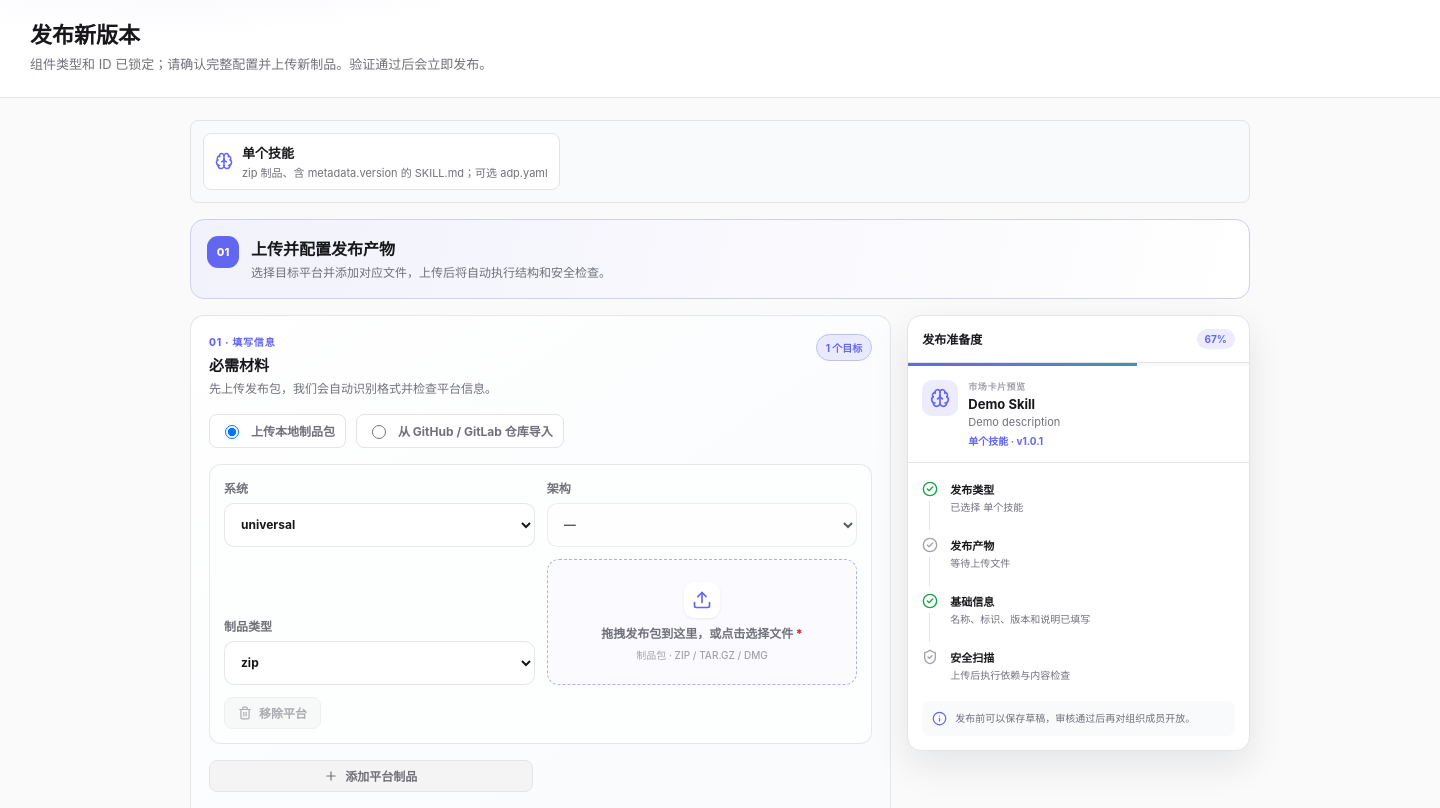
Test case: publish platform selection › derives the platform from OS and architecture without exposing a platform field
The width and height of the screenshot is (1440, 808).
Expected: the dropdown labelled "架构" is disabled, [547, 502, 857, 546]
Select "darwin" in the dropdown labelled "系统": (379, 524) [224, 502, 535, 546]
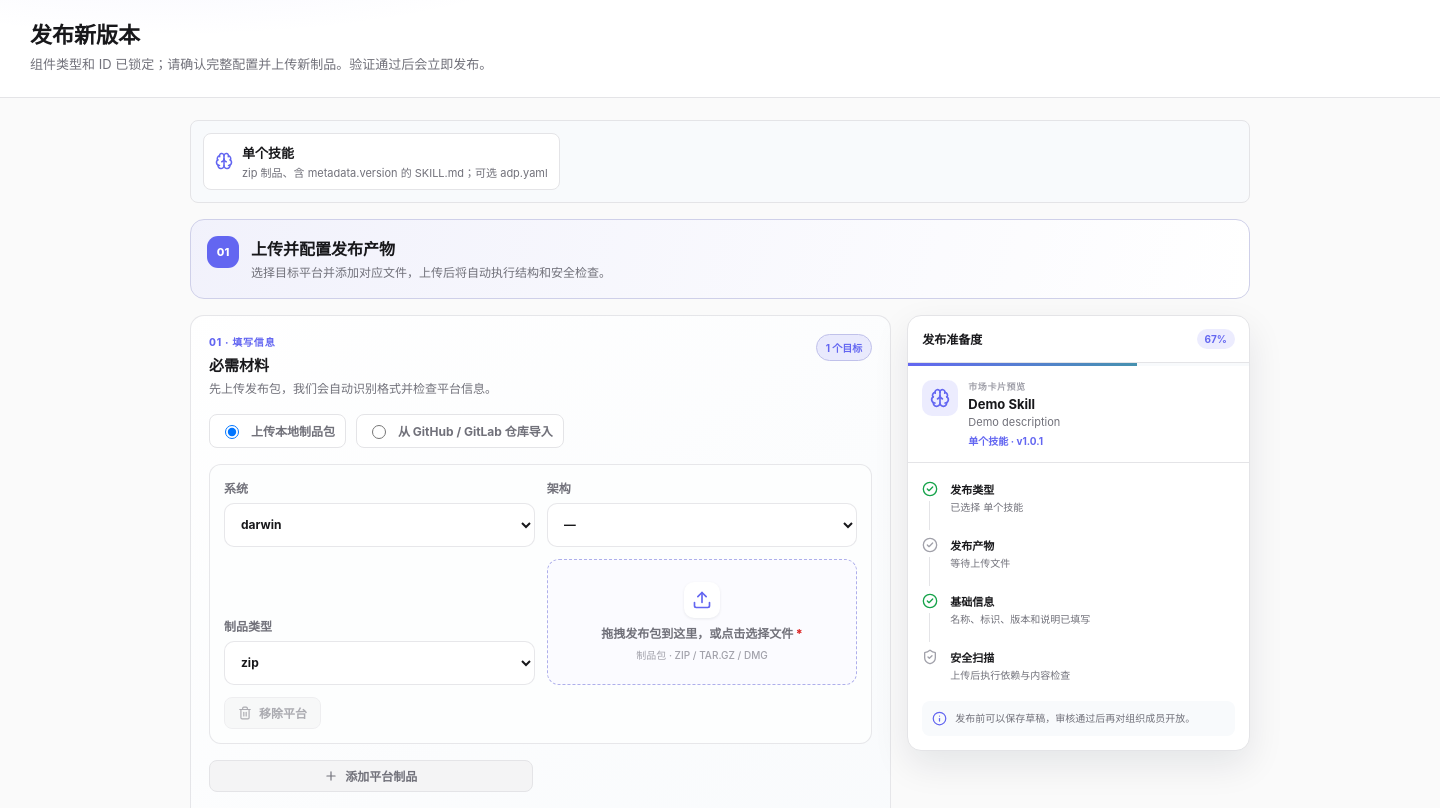
Result: the dropdown labelled "架构" is enabled
Select "arm64" in the dropdown labelled "架构": (702, 524) [547, 502, 857, 546]
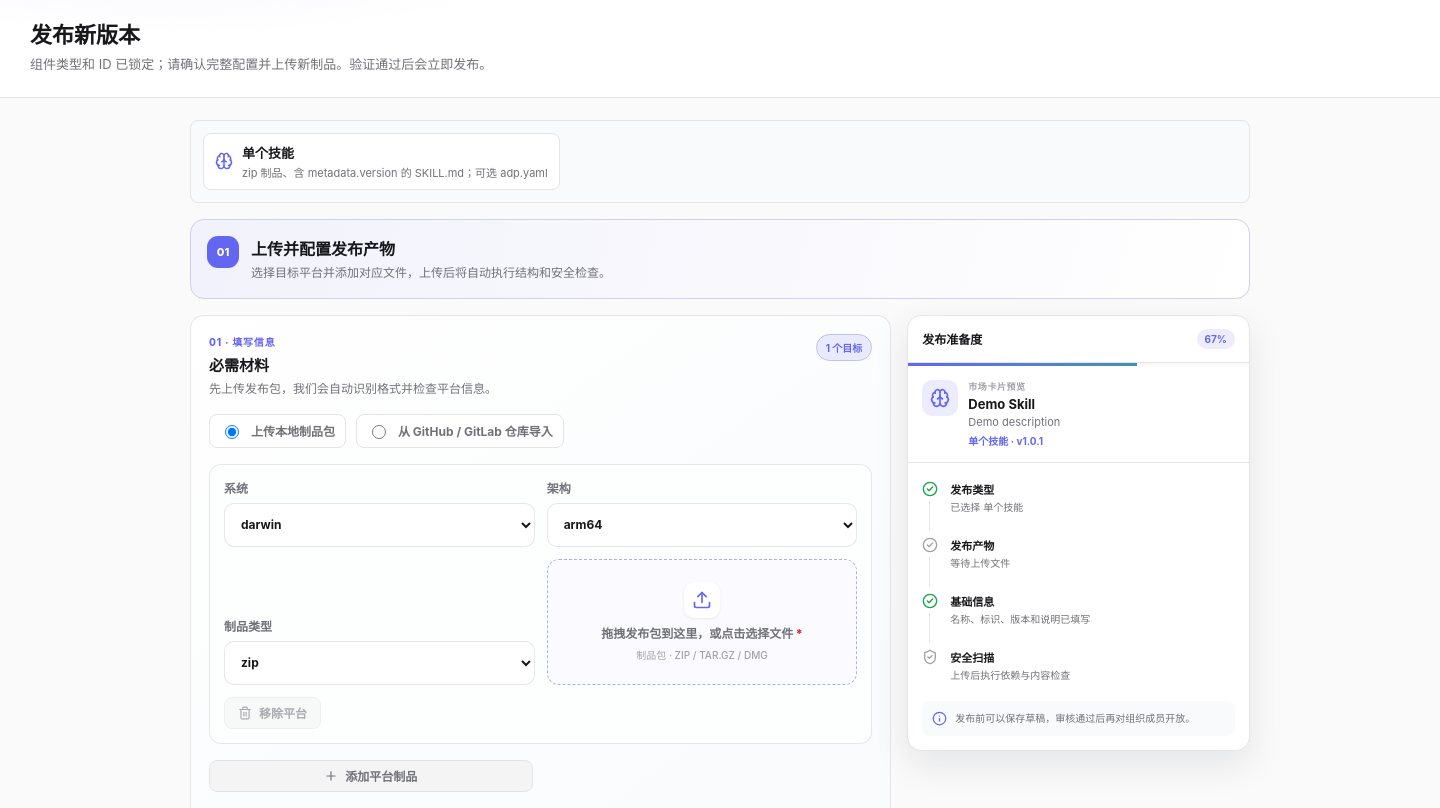
Select "universal" in the dropdown labelled "系统": (379, 524) [224, 502, 535, 546]
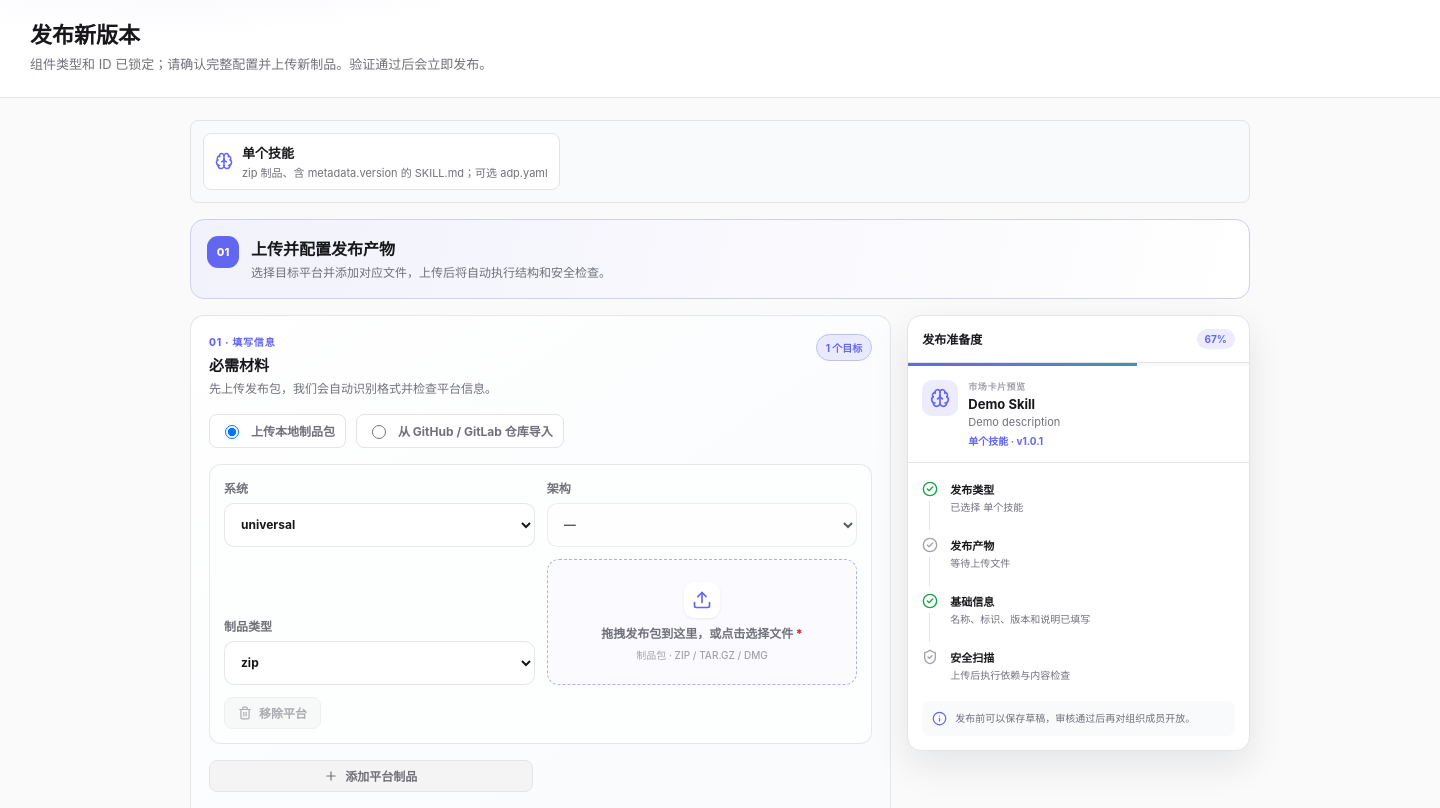
Result: the dropdown labelled "架构" is disabled at [547, 502, 857, 546]
